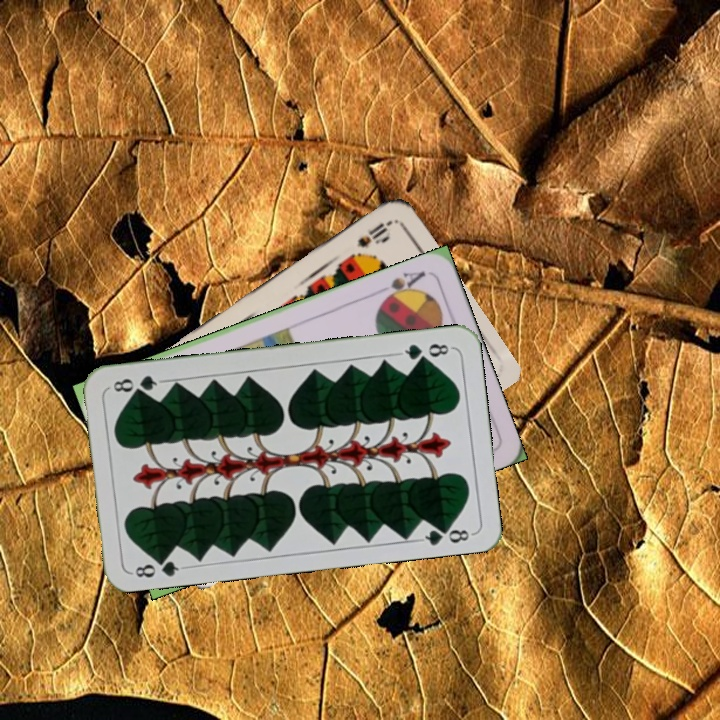G8: (129, 552, 188, 580), (396, 339, 455, 364)
S10: (353, 216, 395, 251)
SA: (373, 267, 428, 306)
